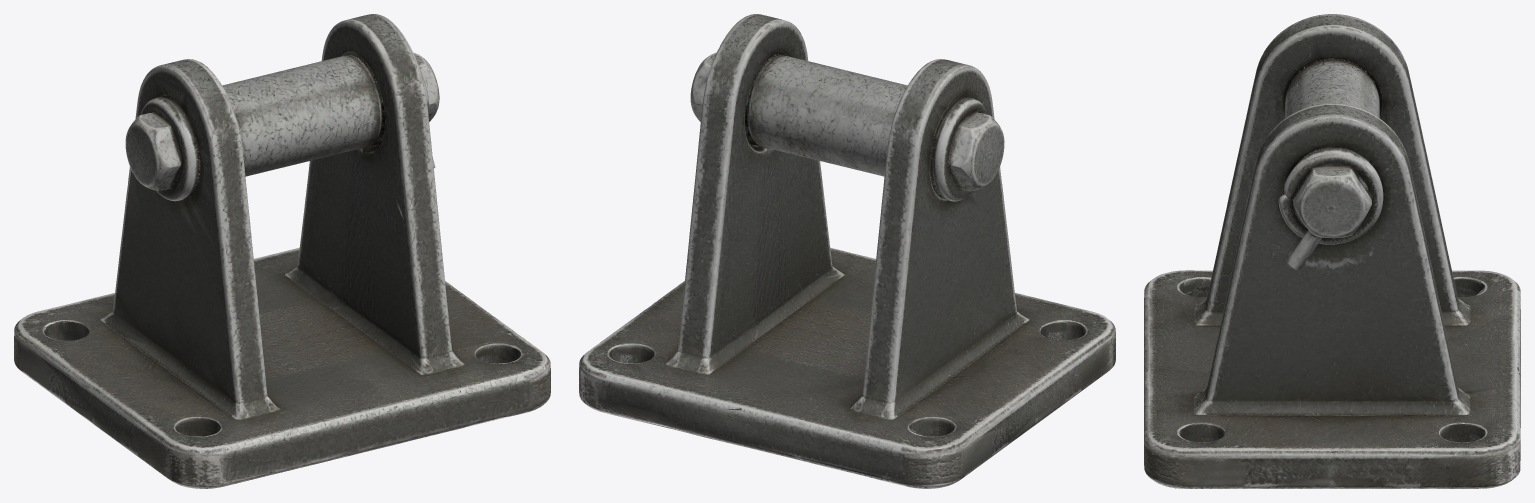
File: Meshy_AI_Industrial_roller_bea_0618040527_texture.fbx
The picture shows the model from 3 angles, left to right: view 1: azimuth 30°, elevation 25°; view 2: azimuth 150°, elevation 25°; view 3: azimuth 270°, elevation 25°; orthographic projection.
Parts seen in each view (by area): view 1: Mesh_0; view 2: Mesh_0; view 3: Mesh_0.
Boxes of the visible parts, x1,y1,x2,y2 form: Mesh_0: [14, 14, 550, 488]; Mesh_0: [579, 14, 1115, 488]; Mesh_0: [1144, 14, 1520, 488].
Size of the model in its own units: 191 by 163 by 166.
Materials: 1 (1 with a texture image).
